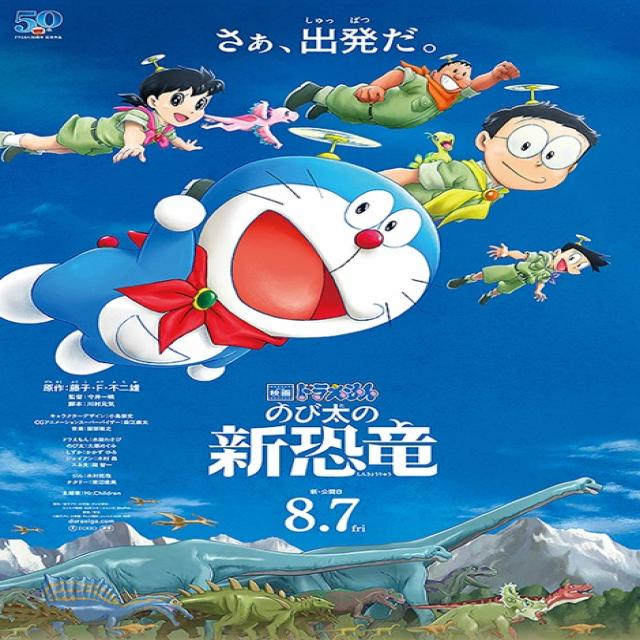doraemon: (176, 140, 463, 350)
jaian: (418, 56, 483, 104)
nobita: (455, 91, 606, 205)
shizuka: (113, 56, 234, 142)
suneo: (538, 236, 614, 287)
